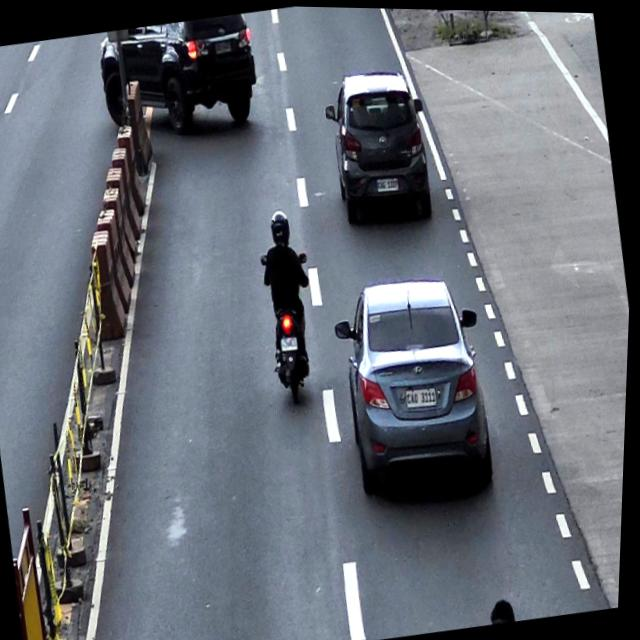Car: (325, 264, 509, 514), (93, 9, 269, 148), (319, 61, 443, 228)
License-Plate: (406, 382, 442, 409), (376, 174, 402, 193), (281, 333, 302, 352), (213, 37, 233, 53)
Motorcycle: (256, 241, 333, 403)
